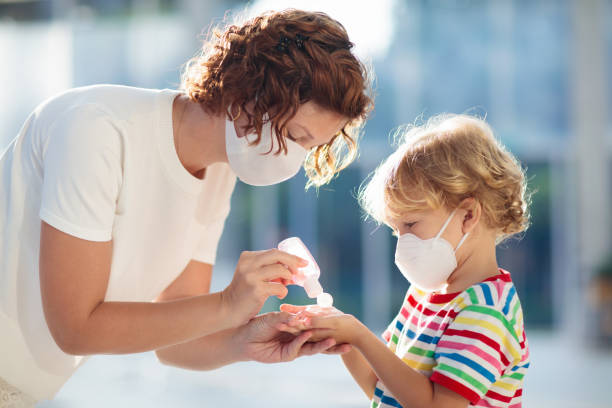with mask: (216, 48, 349, 207), (377, 133, 510, 292)
